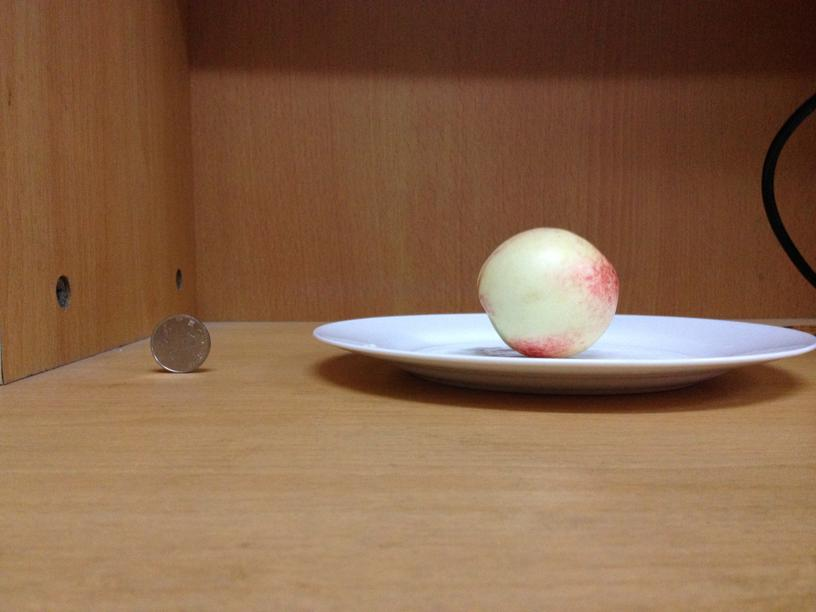coin: (146, 315, 209, 373)
peach: (476, 225, 619, 357)
